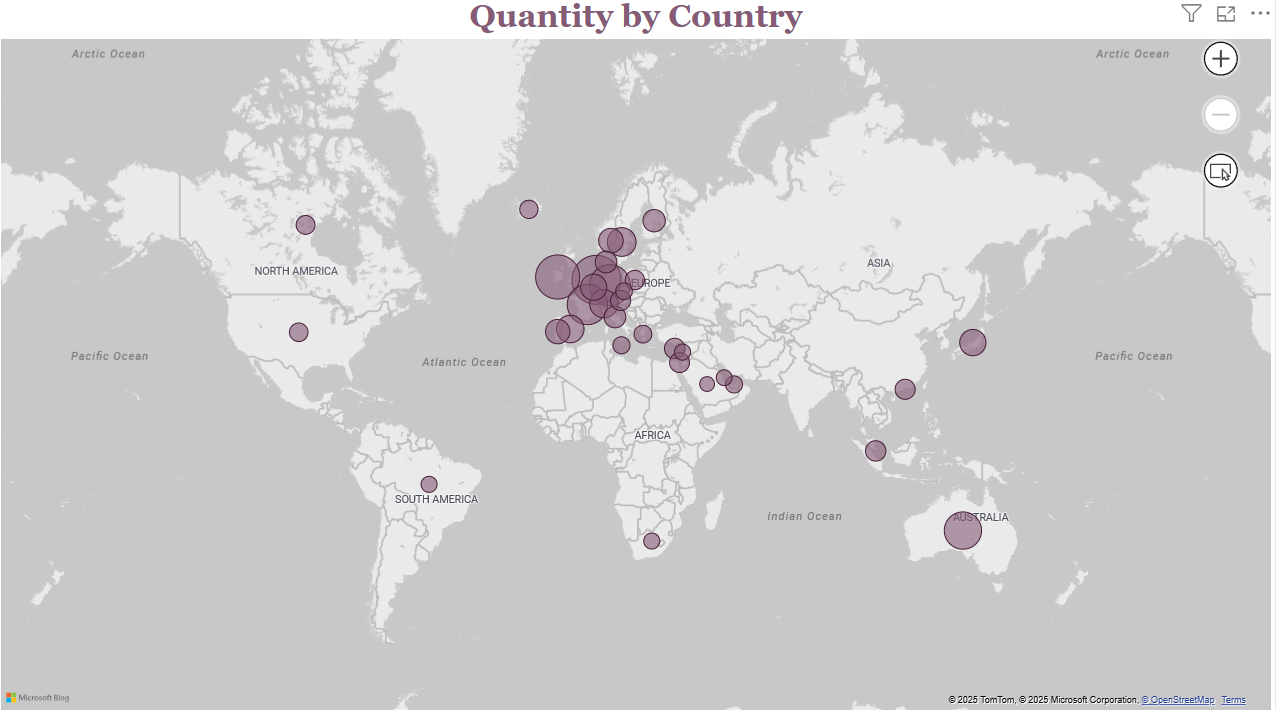

The dashboard page shown, as its layout file describes it:
{"tool":"powerbi","page":{"name":"Page 5","canvas":[1280,720],"ordinal":4},"visuals":[{"type":"map","fields":{"Category":["Online Retail.Country"],"Size":["Sum(Online Retail.Quantity)"]},"box":[0,0,1280,720],"z":0}]}

Visuals, with their boxes in screenshot pixels (x1, y1, x2, y2), scaled from the page's 1280x720 canvas onto the 1276x710 screenshot:
map - Online Retail.Country x Sum(Online Retail.Quantity): left=0, top=0, right=1275, bottom=709
